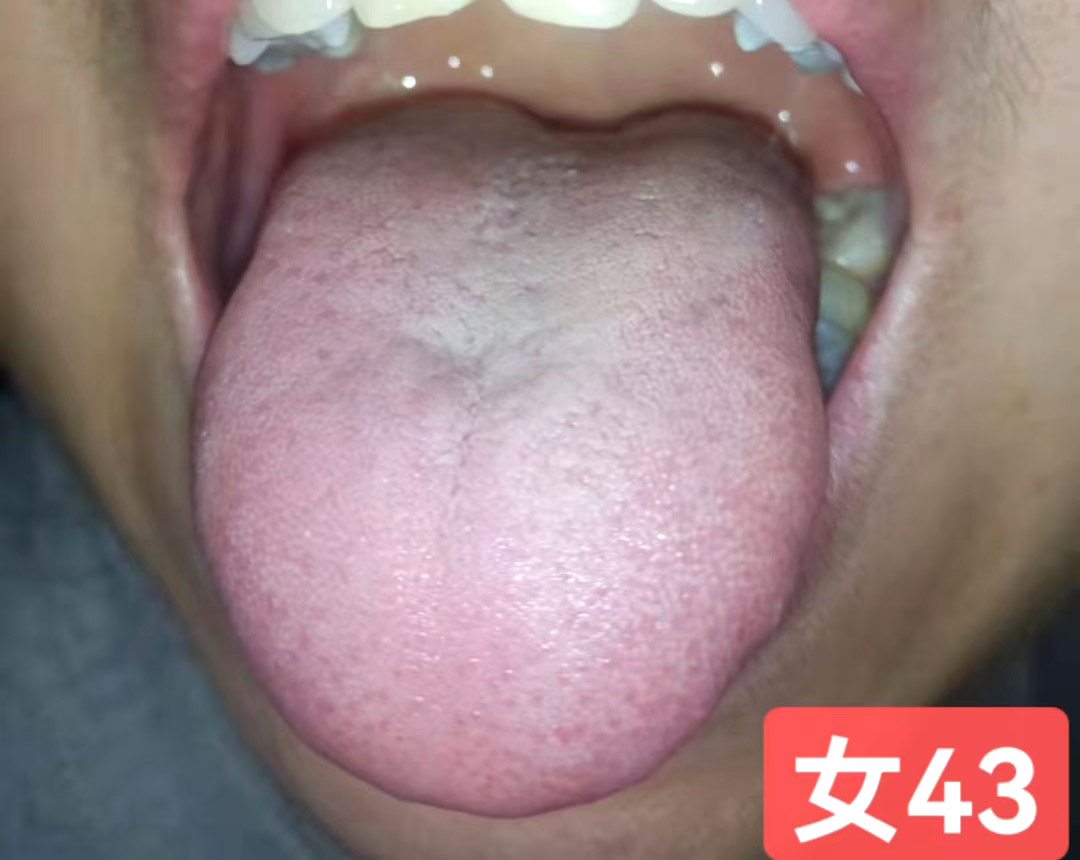baitaishe: (195, 93, 829, 817)
shenquao: (455, 94, 709, 160)
